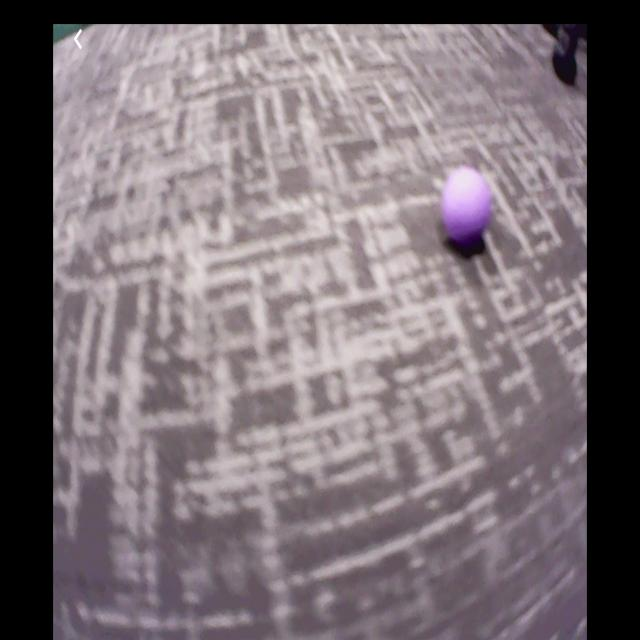ball: (445, 170, 491, 244)
